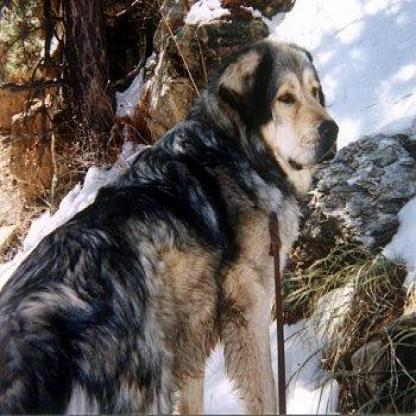Tibetan_mastiff: (0, 33, 346, 413)
